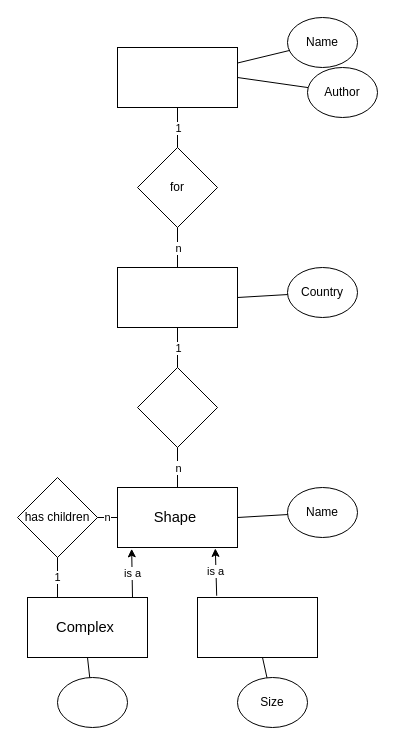
The diagram is 395 pixels wide and 745 high, and some of its shapes have lost their labels. Here are the shapes that lost their labels. From the top down, the centre of each, then its label:
[177,77]: Diagram
[177,297]: Validity
[177,407]: of
[257,627]: Simple
[92,702]: Color
